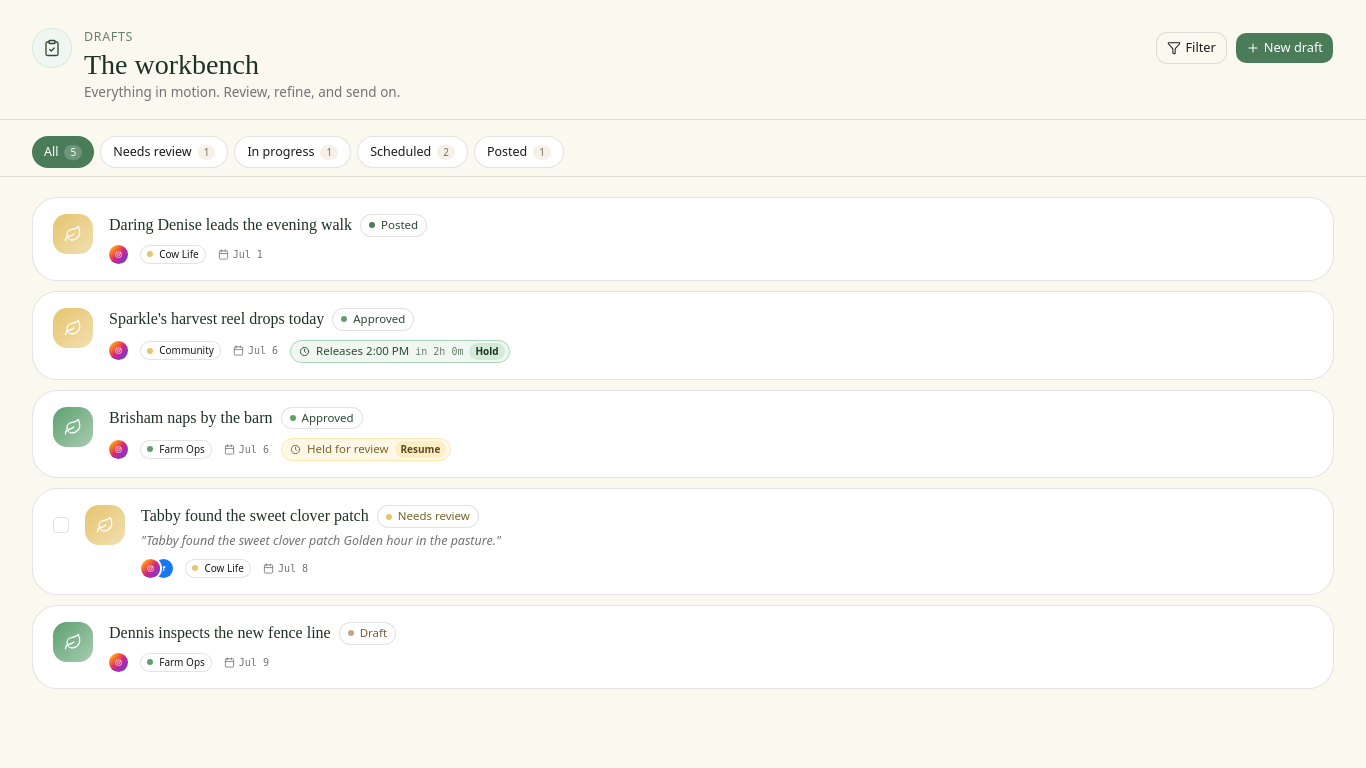
Test: DraftsPage › batch approves selected needs-review rows
Expected: the heading "Tabby found the sweet clover patch" is shown, top-left (141, 506), bottom-right (369, 527)
Click the checkbox named "select tabby found the sweet clover". click: point(61, 525)
box: top-left (53, 517), bottom-right (69, 533)
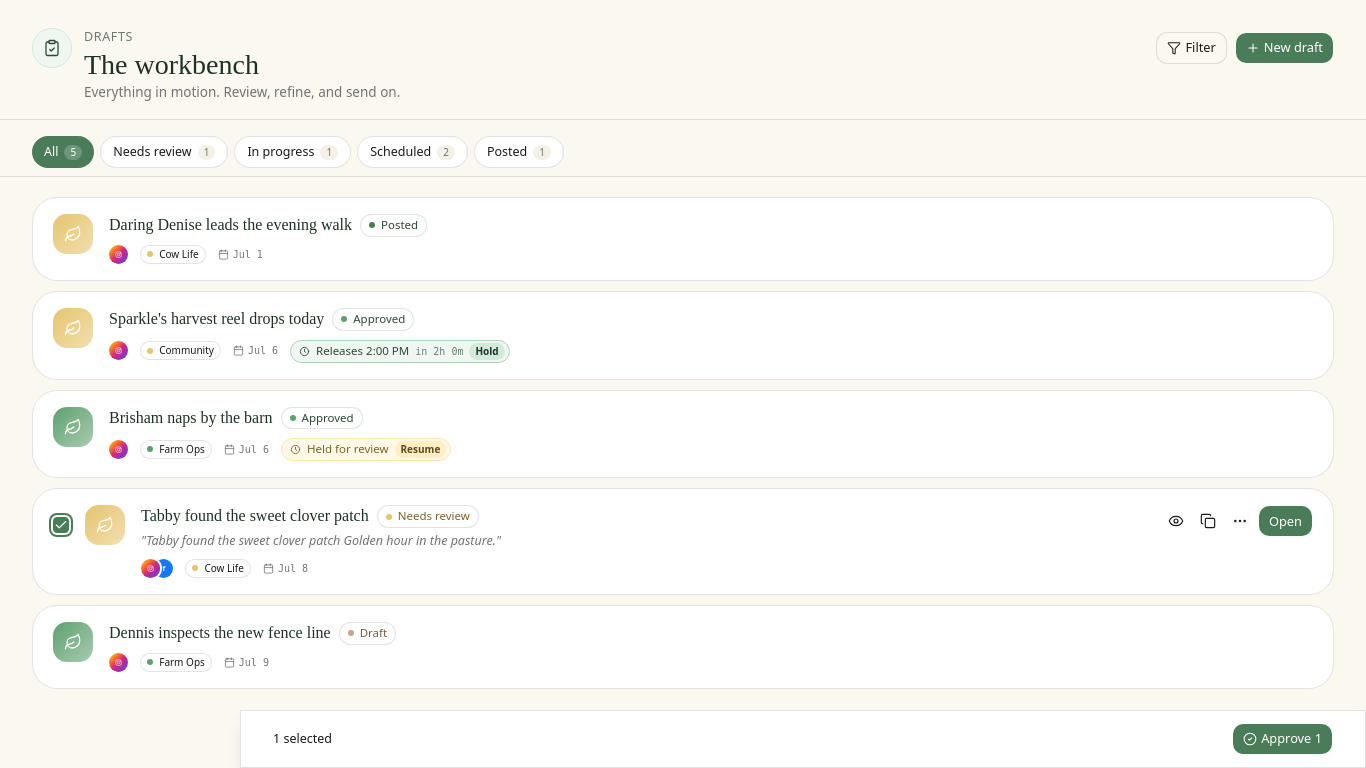
Expected: the text "1 selected" is shown, top-left (273, 730), bottom-right (332, 748)
Click the button "Approve 1". click: point(1283, 739)
box: top-left (1232, 723), bottom-right (1333, 755)
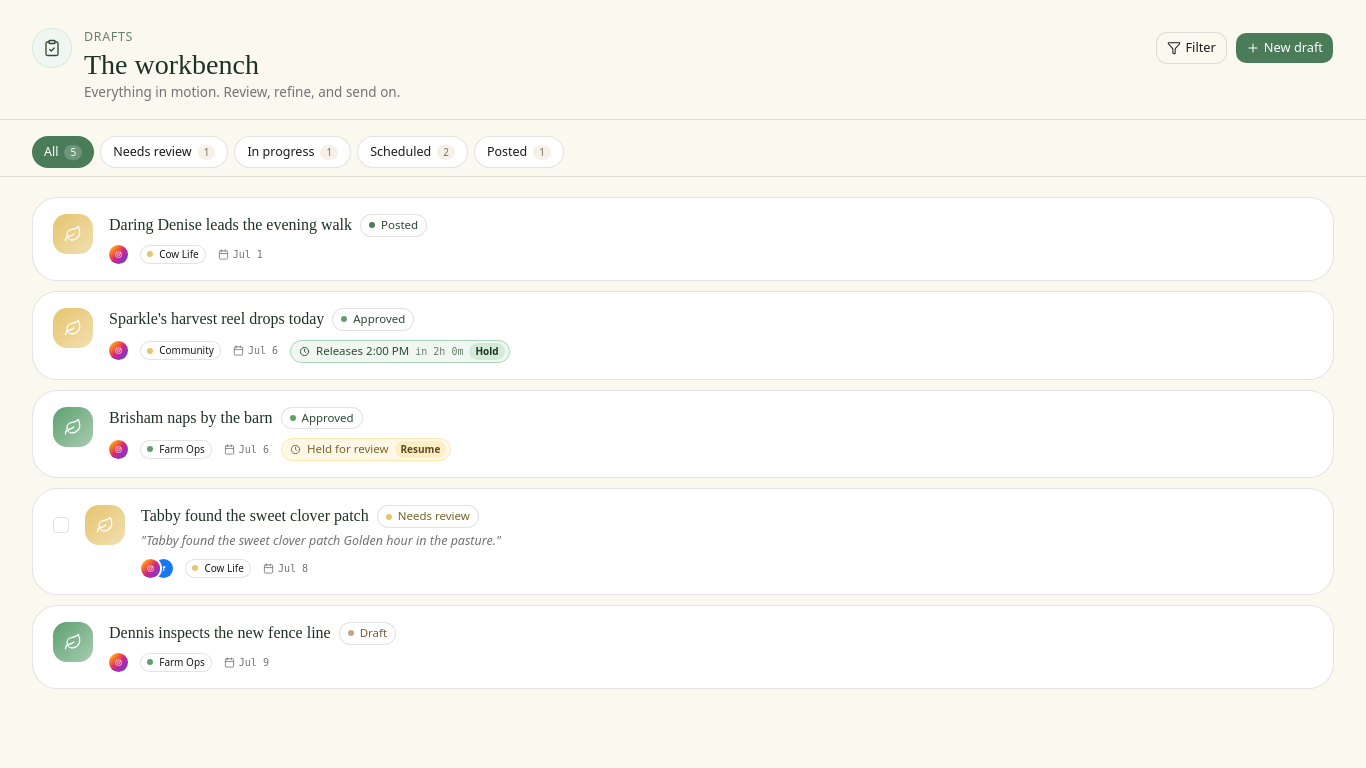
Expected: the text "1 selected" is gone
